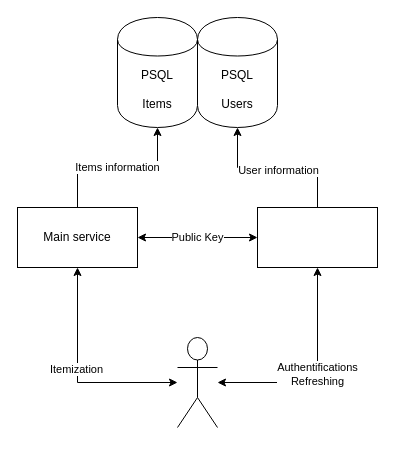
Image size: 395x466. Some labels were removed from this diagram. The centre of each missing label's shape, as x and y in pixels:
"Auth Service" goes at (317,237).
"User" goes at (197,382).
